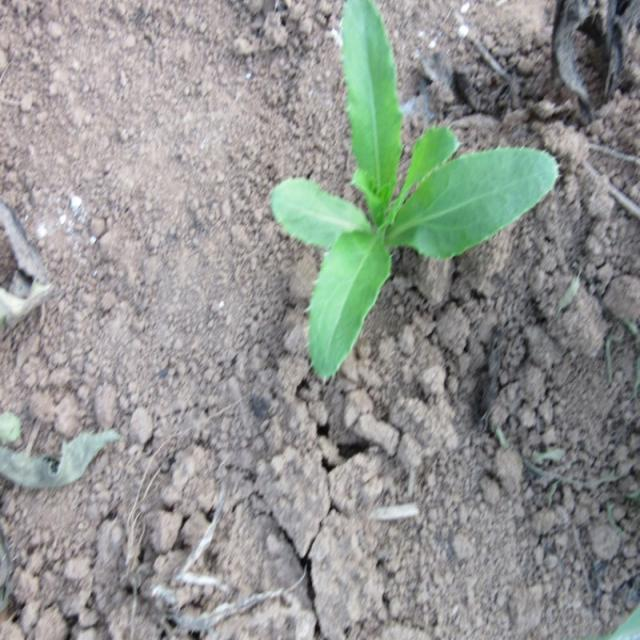cs: (266, 0, 566, 385)
